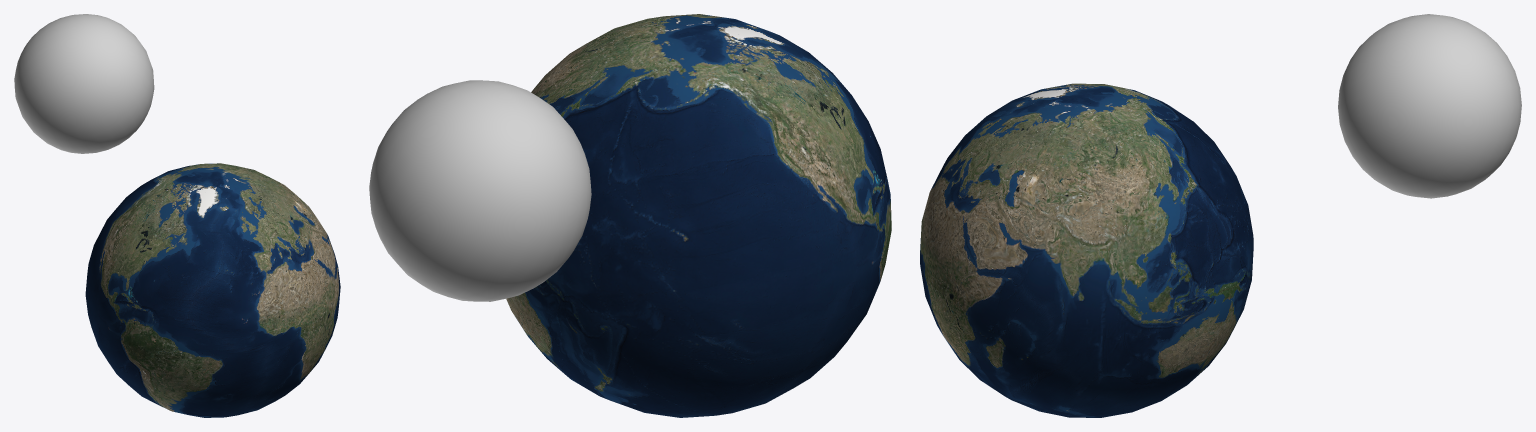
Rendered from MoonAndEarth.obj.
3 views of the same model, side by side, from view 1: azimuth 30°, elevation 25°; view 2: azimuth 150°, elevation 25°; view 3: azimuth 270°, elevation 25° (orthographic). The views are drawn at different scales.
Parts seen in each view (by area): view 1: Earth_Earth_Cube.002, Moon_Moon_Cube.004; view 2: Earth_Earth_Cube.002, Moon_Moon_Cube.004; view 3: Earth_Earth_Cube.002, Moon_Moon_Cube.004.
Part boxes in pixels (x1=…): Earth_Earth_Cube.002: x1=85, y1=163, x2=340, y2=417; Moon_Moon_Cube.004: x1=14, y1=14, x2=154, y2=153; Earth_Earth_Cube.002: x1=506, y1=14, x2=891, y2=417; Moon_Moon_Cube.004: x1=369, y1=80, x2=591, y2=301; Earth_Earth_Cube.002: x1=920, y1=83, x2=1253, y2=417; Moon_Moon_Cube.004: x1=1338, y1=14, x2=1521, y2=198.
Bounding box in the file's own units: 6.31 × 7.95 × 11.38.
